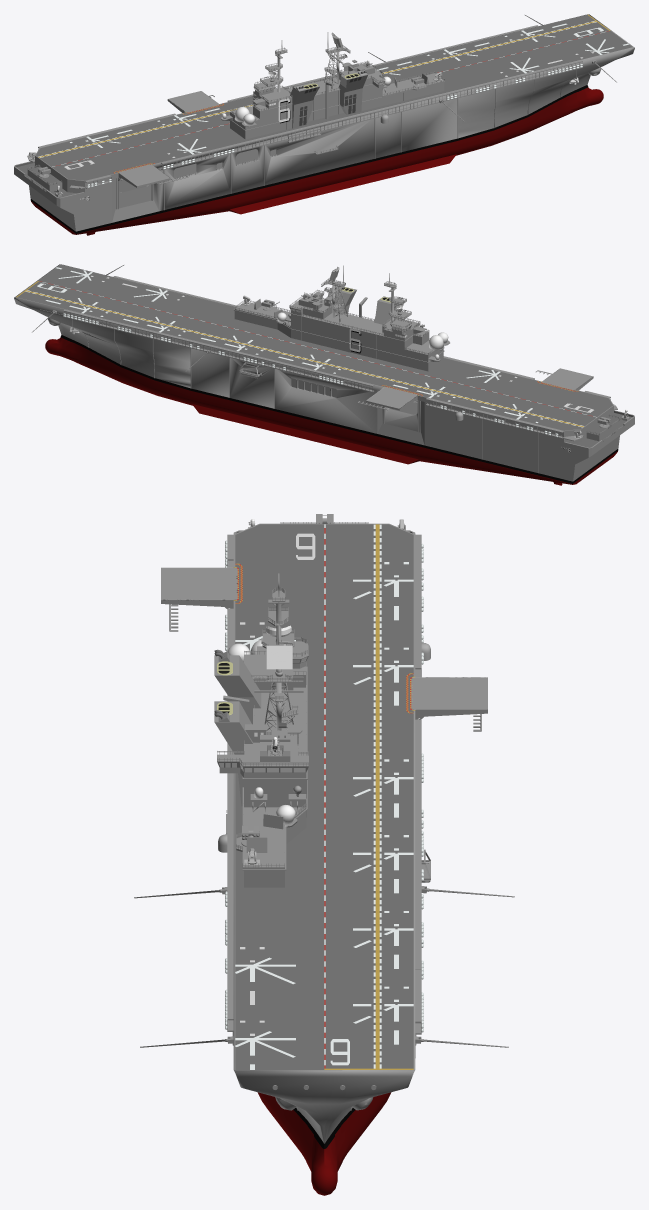
Rendered from USS_America_LHA6.glb.
The picture shows the model from 3 angles, top to bottom: view 1: azimuth 30°, elevation 25°; view 2: azimuth 150°, elevation 25°; view 3: azimuth 270°, elevation 25°; orthographic projection. The views are drawn at different scales.
Visible parts, largest first — view 1: _G-Object.029 (Loose Mesh)_1377, _G-Object.002 (Loose Mesh)_1117, _G-Object.013 (Loose Mesh)_1154, _G-Object.032 (Loose Mesh)_1380, object 1124, object 1121; view 2: _G-Object.029 (Loose Mesh)_1377, _G-Object.002 (Loose Mesh)_1117, _G-Object.013 (Loose Mesh)_1154, _G-Object.032 (Loose Mesh)_1380, object 1121, object 1124; view 3: _G-Object.029 (Loose Mesh)_1377, _G-Object.013 (Loose Mesh)_1154, _G-Object.002 (Loose Mesh)_1117, _G-Object.032 (Loose Mesh)_1380, object 1124, object 1121, G-Object_1.
Part boxes in pixels (x1=…): _G-Object.029 (Loose Mesh)_1377: x1=14, y1=14, x2=634, y2=231; _G-Object.002 (Loose Mesh)_1117: x1=30, y1=85, x2=603, y2=234; _G-Object.013 (Loose Mesh)_1154: x1=221, y1=47, x2=444, y2=139; _G-Object.032 (Loose Mesh)_1380: x1=290, y1=70, x2=367, y2=128; object 1124: x1=118, y1=164, x2=170, y2=187; object 1121: x1=167, y1=91, x2=219, y2=112; _G-Object.029 (Loose Mesh)_1377: x1=14, y1=264, x2=634, y2=481; _G-Object.002 (Loose Mesh)_1117: x1=45, y1=335, x2=618, y2=484; _G-Object.013 (Loose Mesh)_1154: x1=234, y1=280, x2=449, y2=371; _G-Object.032 (Loose Mesh)_1380: x1=327, y1=282, x2=403, y2=324; object 1121: x1=366, y1=387, x2=417, y2=410; object 1124: x1=542, y1=368, x2=593, y2=390; _G-Object.029 (Loose Mesh)_1377: x1=226, y1=523, x2=430, y2=1143; _G-Object.013 (Loose Mesh)_1154: x1=217, y1=654, x2=308, y2=887; _G-Object.002 (Loose Mesh)_1117: x1=257, y1=1092, x2=391, y2=1195; _G-Object.032 (Loose Mesh)_1380: x1=214, y1=649, x2=261, y2=806; object 1124: x1=161, y1=567, x2=237, y2=607; object 1121: x1=411, y1=677, x2=487, y2=716; G-Object_1: x1=245, y1=724, x2=290, y2=761.
Bounding box in the file's own units: 119 × 30.05 × 33.94.
